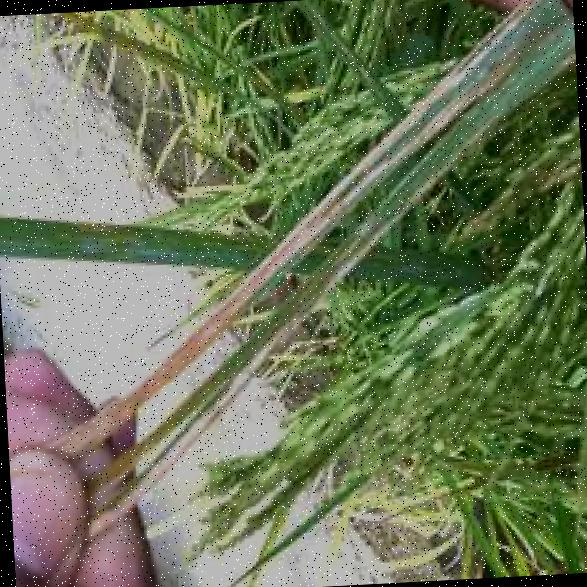Bacteria_Leaf_Blight: (50, 200, 330, 419)
